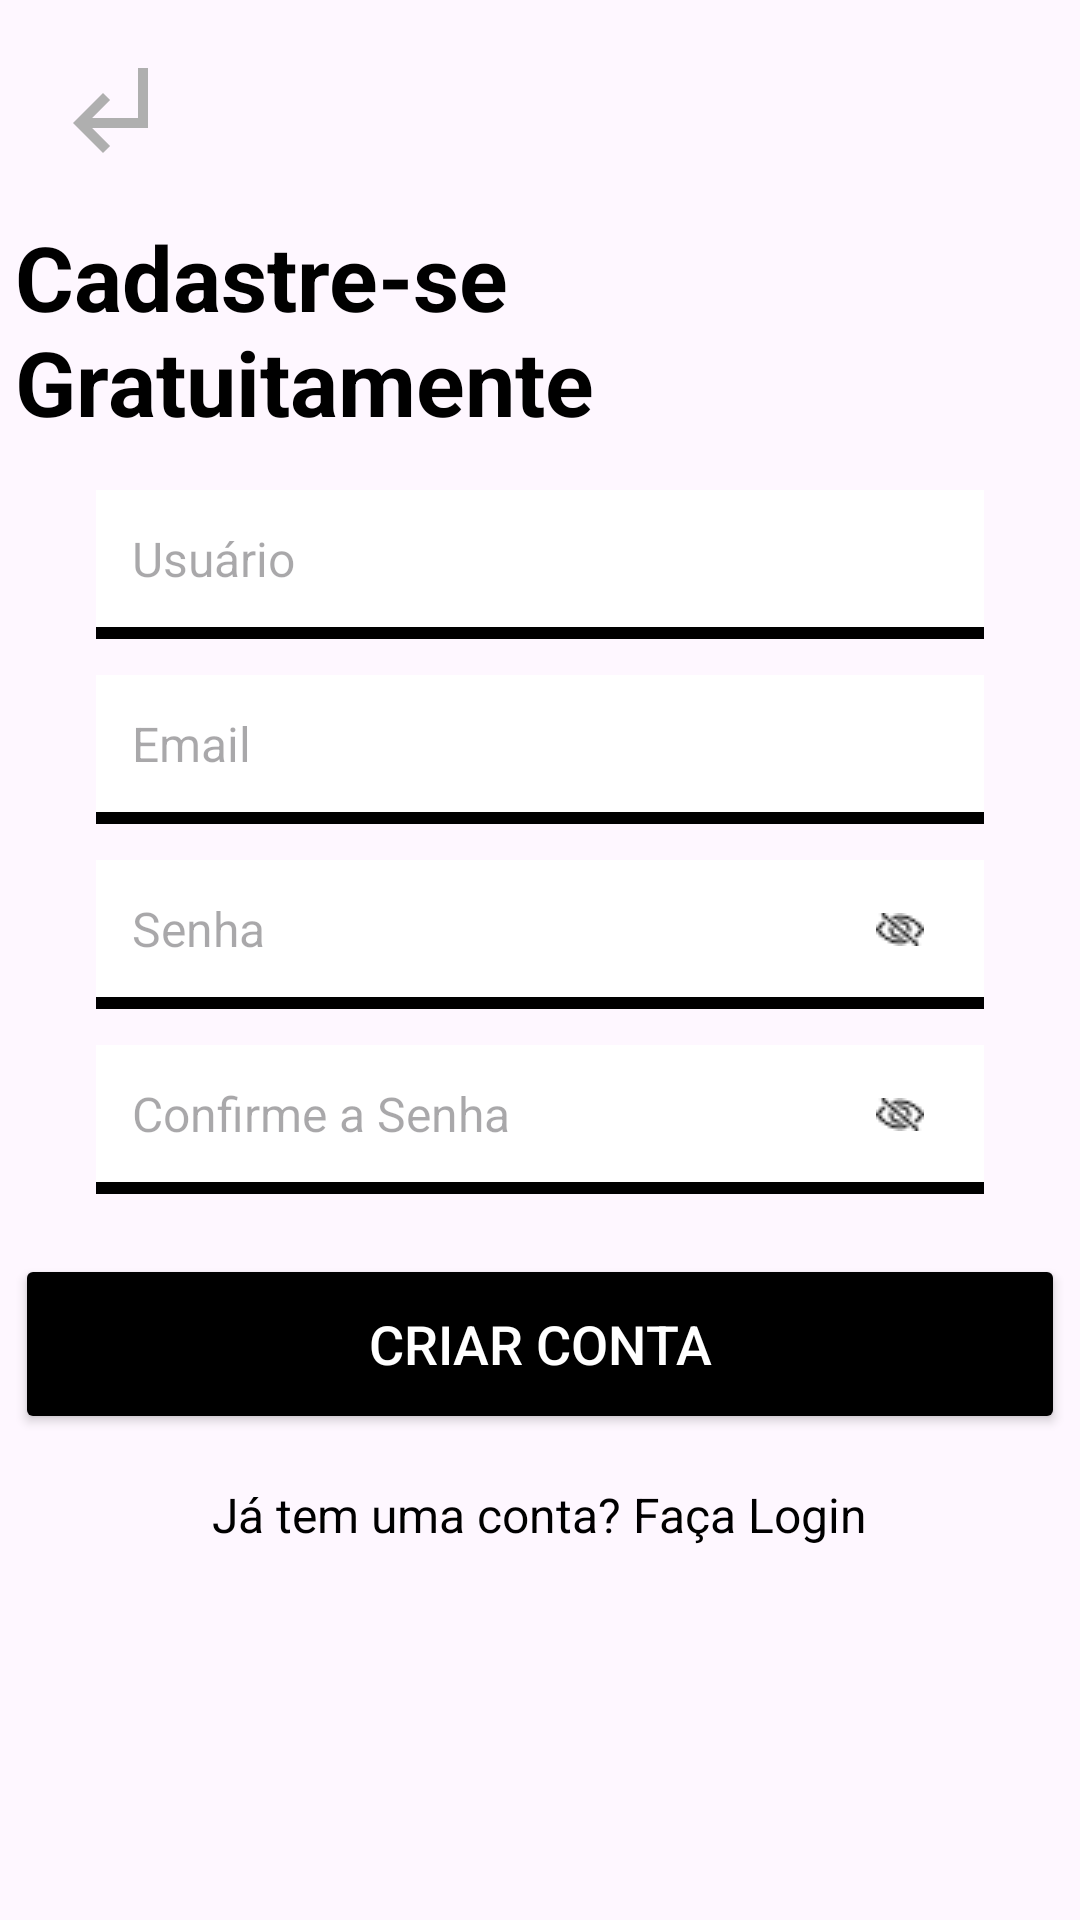

Icon click points for this 1080 x 1920 phone screenshot, format [x,y]:
Botão para voltar para a tela anterior: [110,110]
